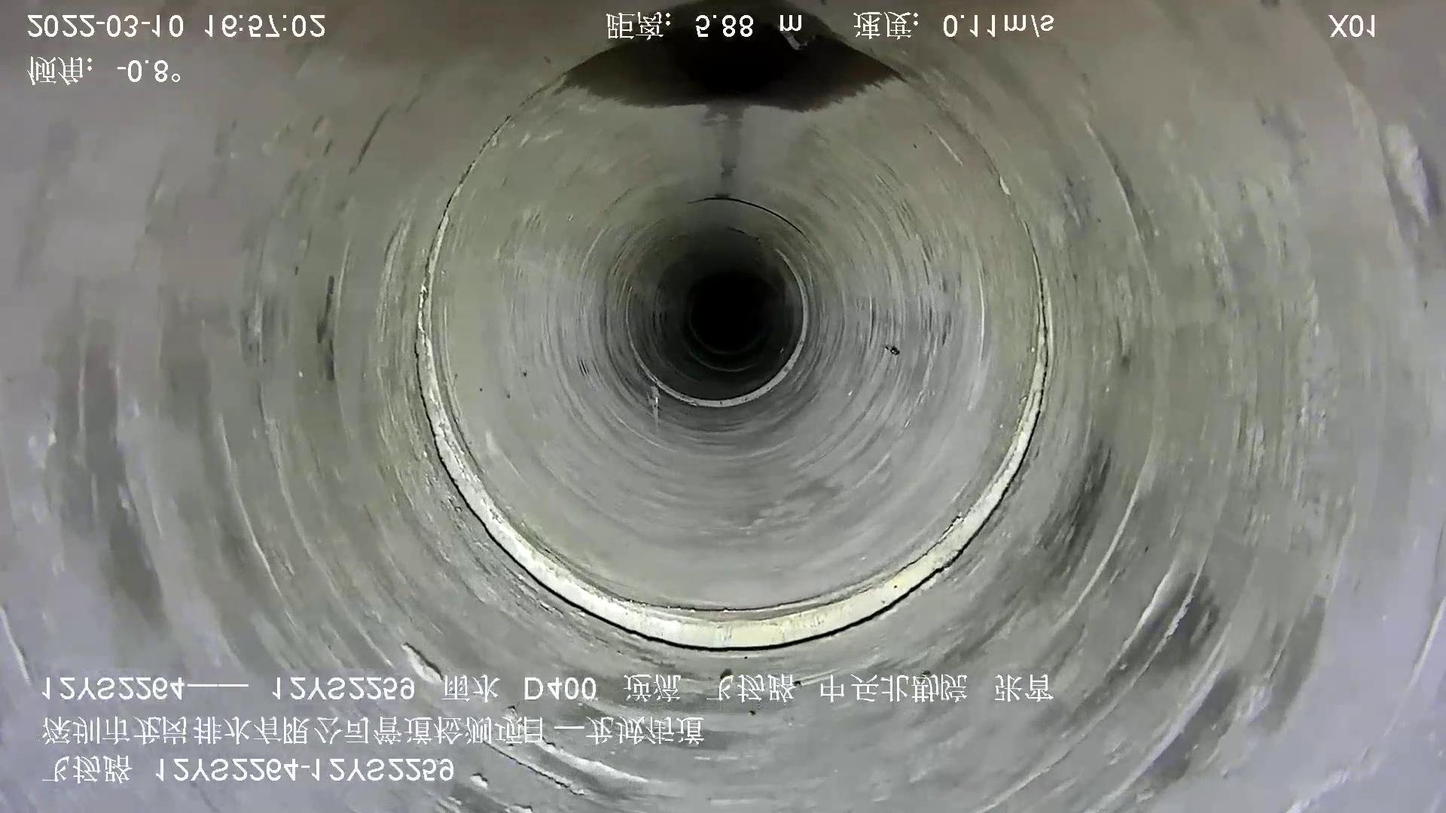CKTJ: (414, 181, 1051, 650), (639, 248, 810, 407)
